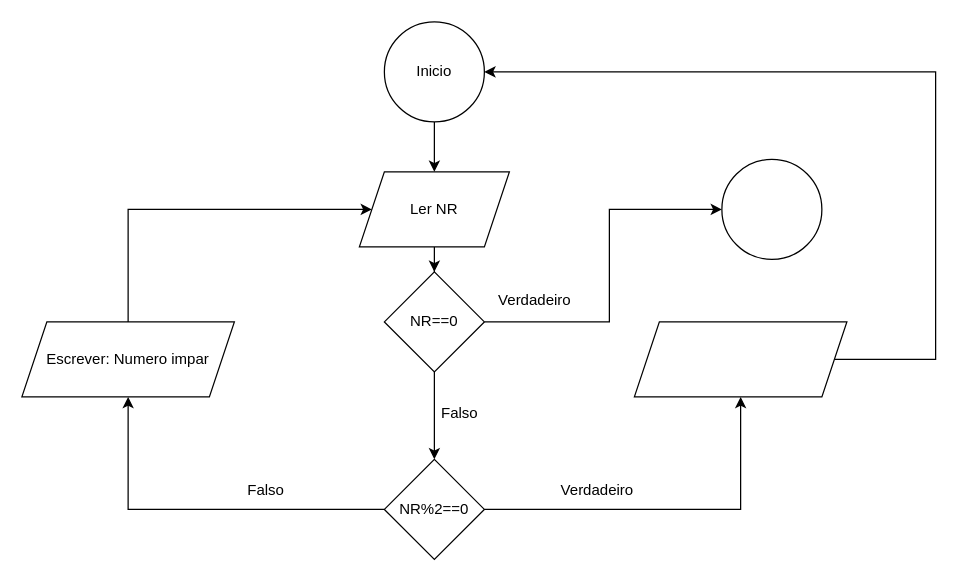
The diagram is 968 pixels wide and 581 high, and some of its shapes have lost their labels. Here are the shapes that lost their labels. From the top down, the centre of each, then its label:
At point 771,208: "Fim".
At point 740,359: "Escrever: Numero Par".
